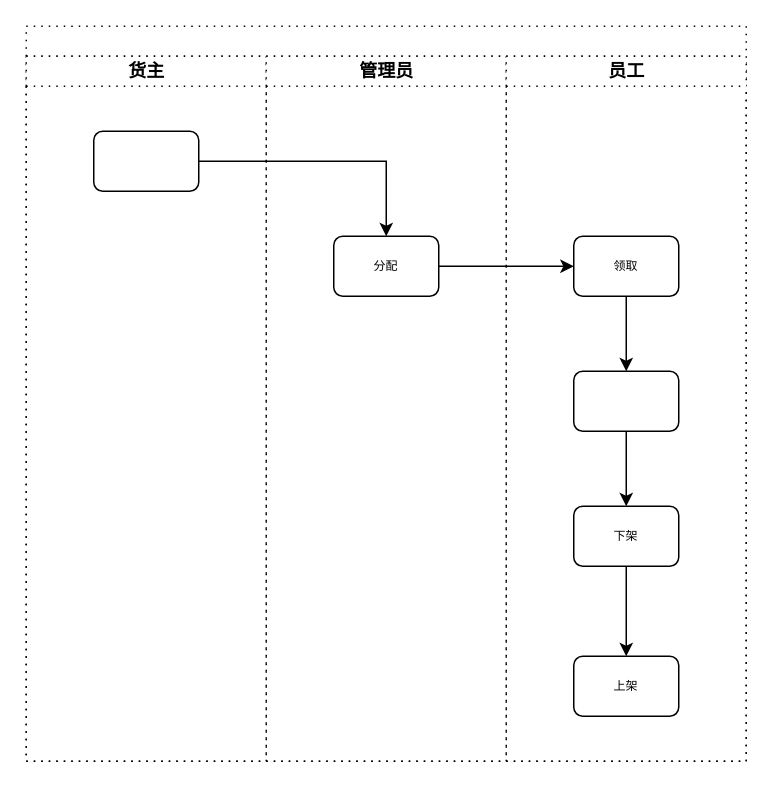
Image size: 773x788. Some labels were removed from this diagram. The shapes that lost their labels are listed below. From the top down, each one's box as (x1, y1, x2, y2) in pixels, then its label:
(92, 130, 199, 191): 下单
(25, 25, 746, 761): 物流系统
(572, 370, 679, 431): 检查
